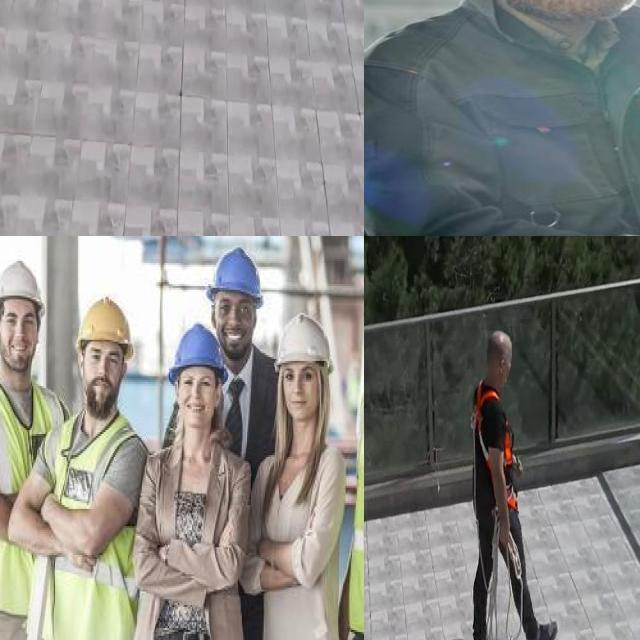Harness: (474, 382, 501, 464)
No_Ear-Protection: (211, 383, 223, 408), (76, 352, 86, 379)
No_Glasses: (84, 344, 121, 372), (178, 369, 214, 394), (217, 295, 250, 319), (1, 309, 36, 330), (282, 365, 315, 384)
face_nomask: (211, 249, 264, 365), (278, 315, 332, 428), (74, 309, 128, 418), (175, 337, 222, 443), (0, 265, 43, 371)
person: (364, 0, 640, 236)
